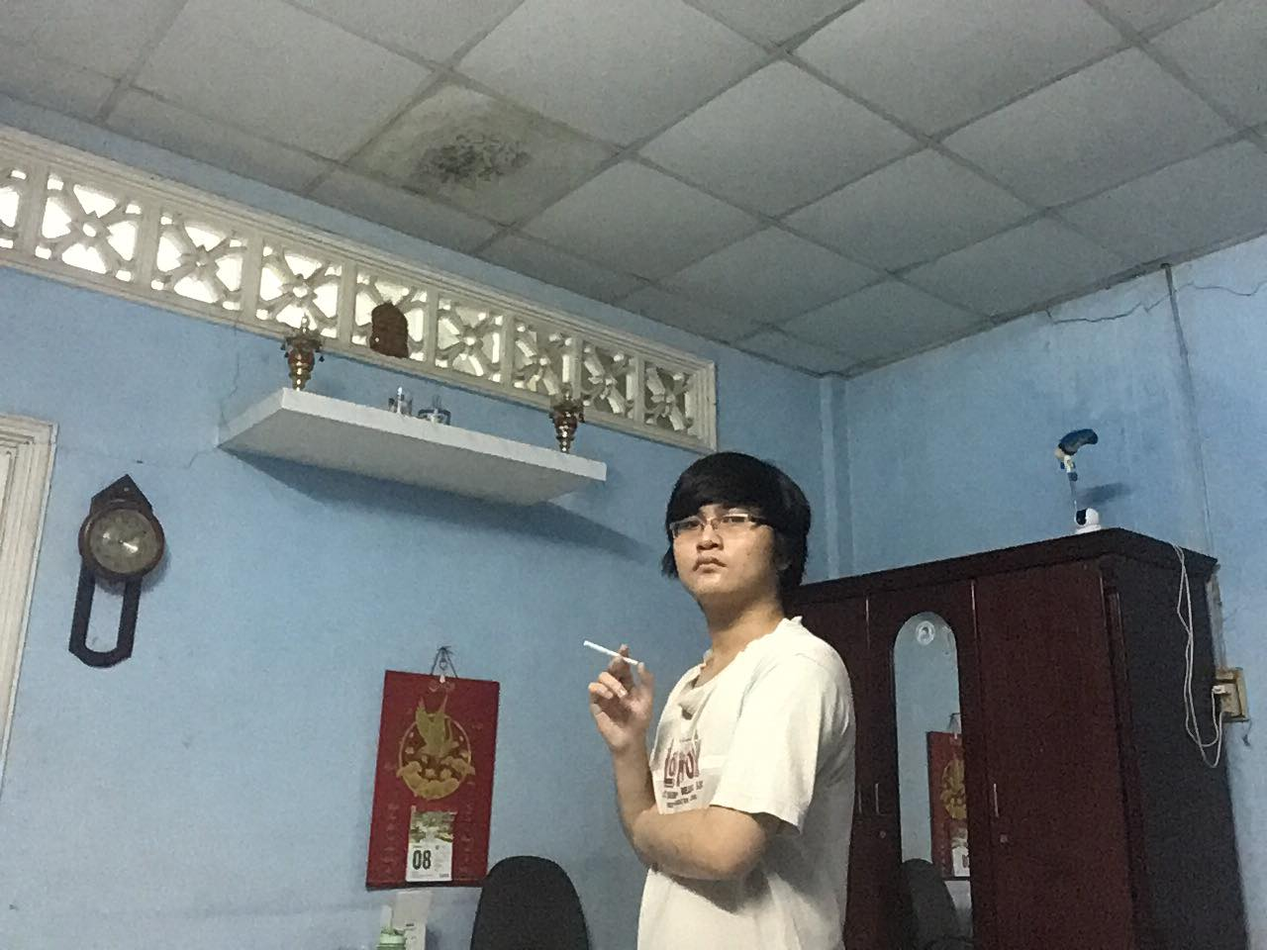cigarette: (579, 636, 620, 660)
person: (577, 452, 862, 949)
